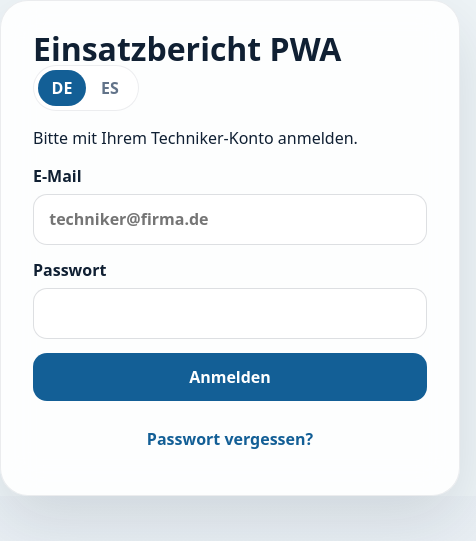
Scenario: language switching UI › updates the login form copy when switching languages
Check: the heading "Einsatzbericht PWA" is shown, box [33,27,341,70]
Check: the field labelled "E-Mail" is shown, box [33,194,427,245]
Click the button "ES": click(110, 88) [86,70,134,106]
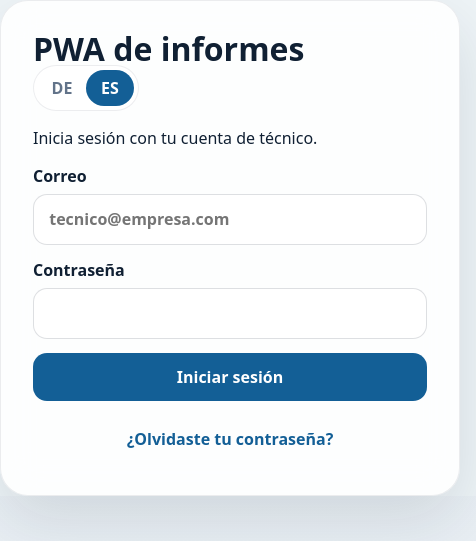
Check: the field labelled "Correo" is shown, box [33,194,427,245]
Check: the button "Iniciar sesión" is shown, box [33,353,427,401]
Click the button "DE": click(62, 88) [38,70,86,106]
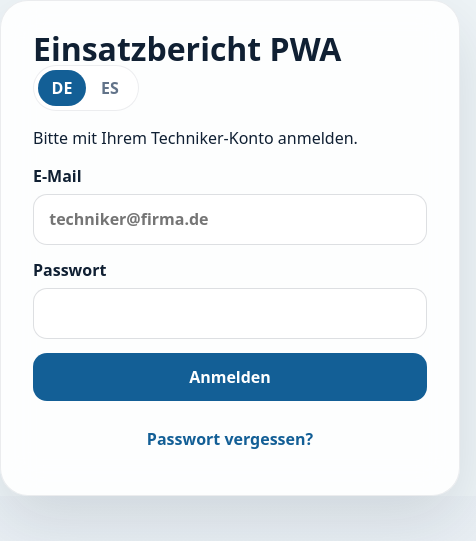
Check: the field labelled "E-Mail" is shown, box [33,194,427,245]
Check: the button "Anmelden" is shown, box [33,353,427,401]
